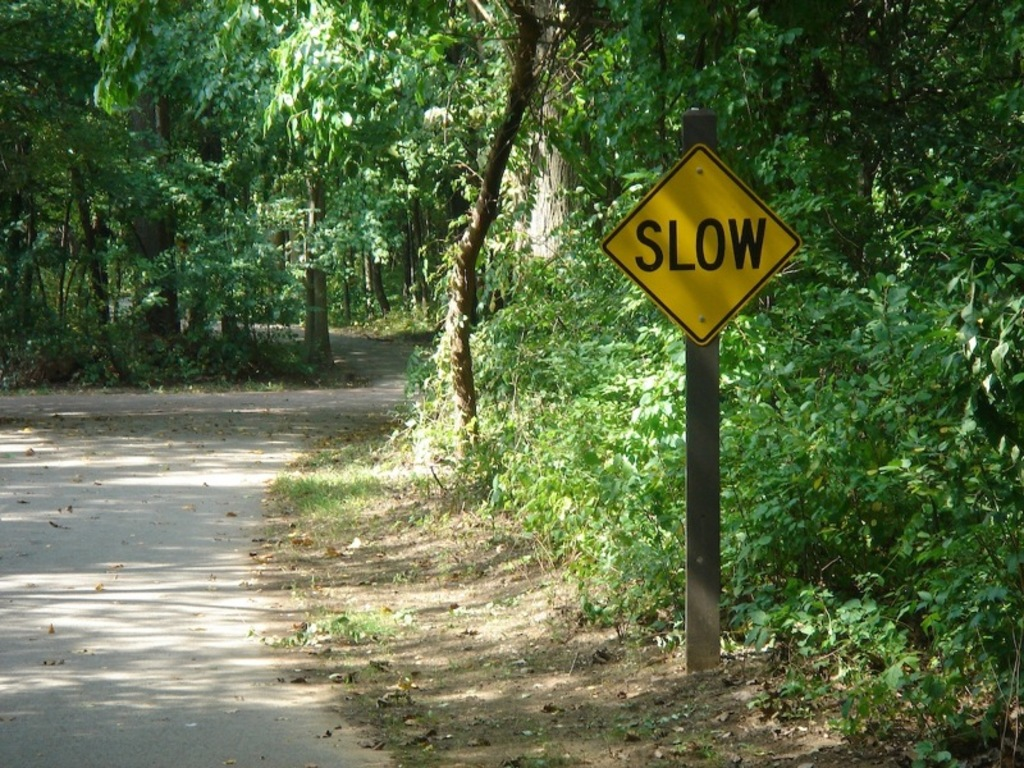go_slow: (602, 149, 806, 351)
